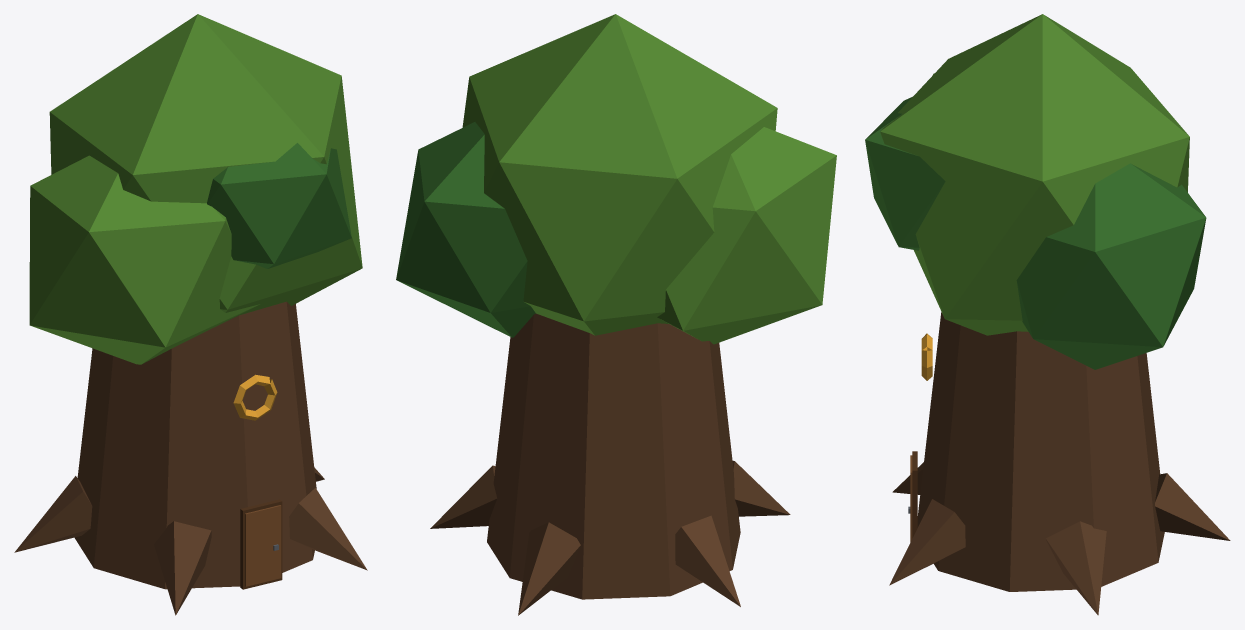
Rendered from treekin_house_a.glb.
The picture shows the model from 3 angles, left to right: view 1: azimuth 30°, elevation 25°; view 2: azimuth 150°, elevation 25°; view 3: azimuth 270°, elevation 25°; orthographic projection.
Visible parts, largest first — view 1: treekin_house_a; view 2: treekin_house_a; view 3: treekin_house_a.
Part boxes in pixels (x1,y1,x2,y2): treekin_house_a: (14,14,367,615); treekin_house_a: (396,14,836,615); treekin_house_a: (865,14,1230,615).
Bounding box in the file's own units: 3.05 × 4.32 × 2.72.
